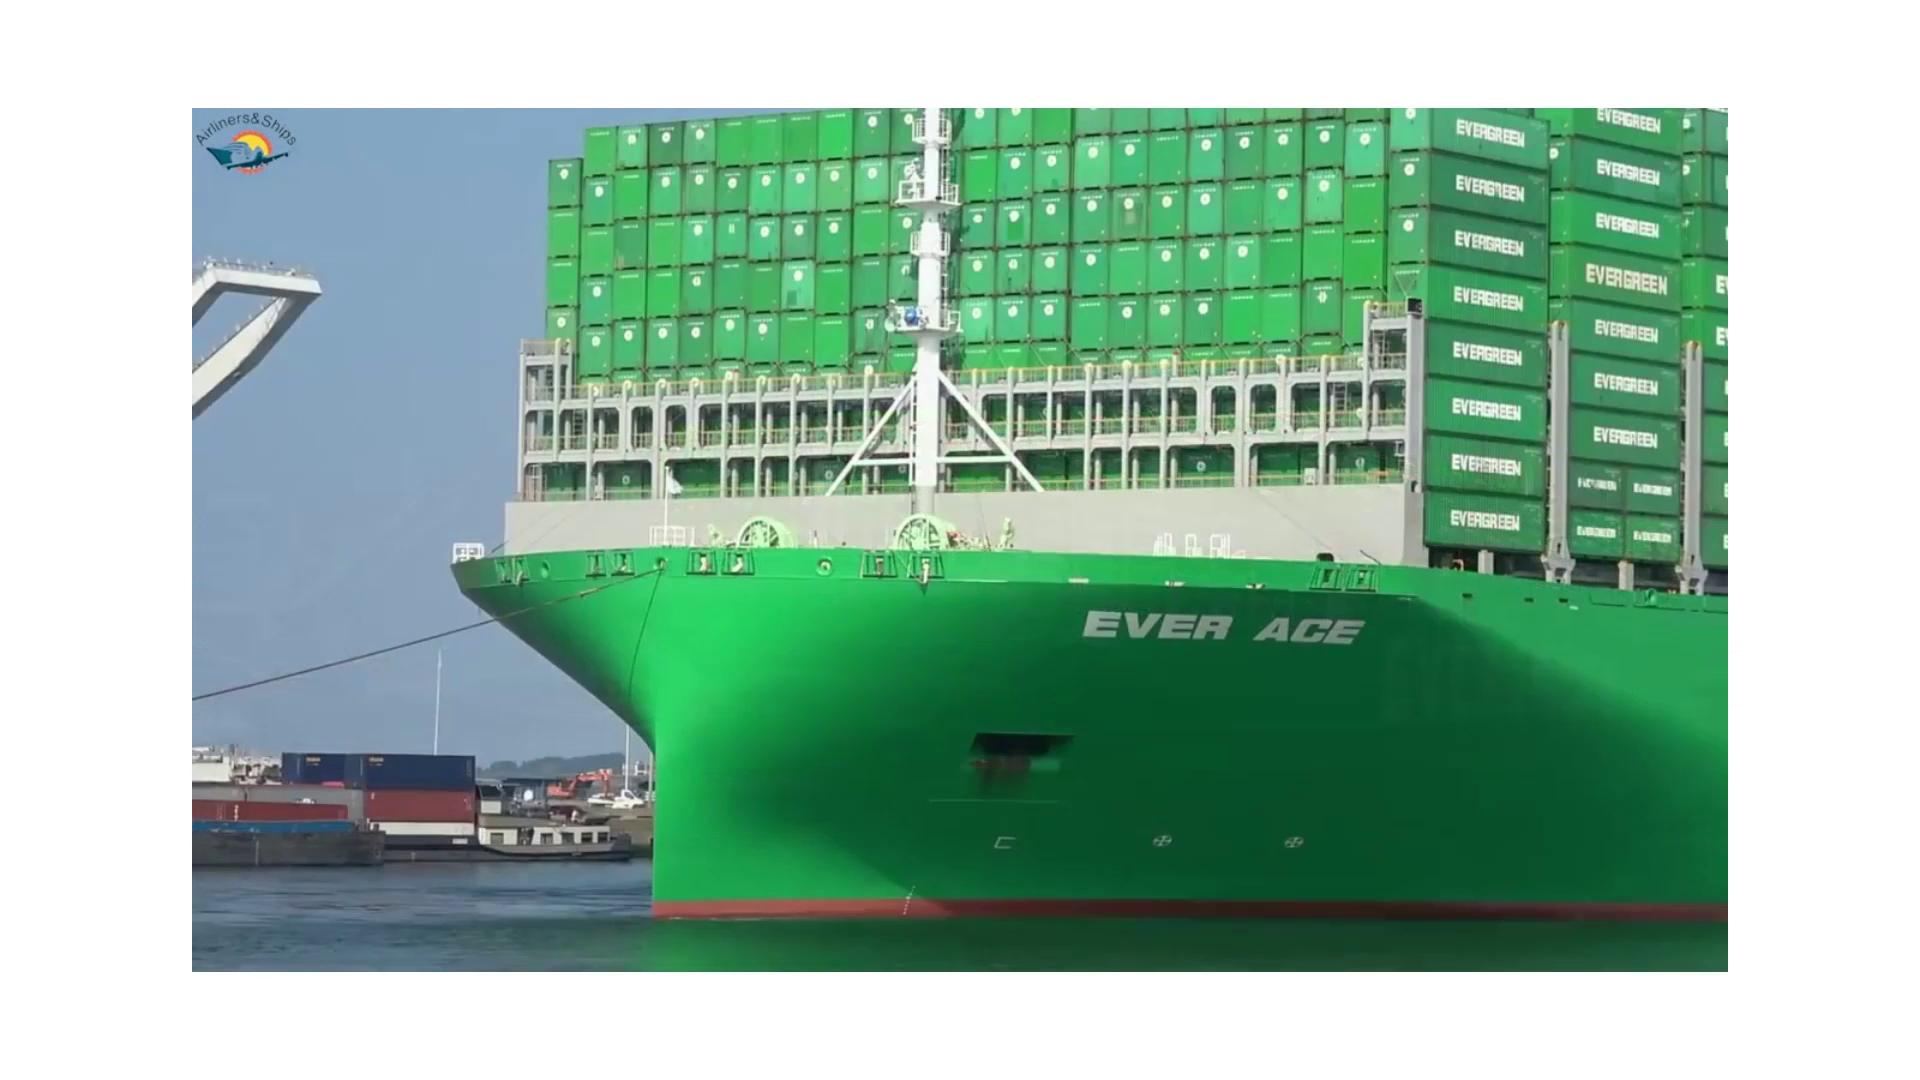OCR: (1062, 588, 1385, 671)
